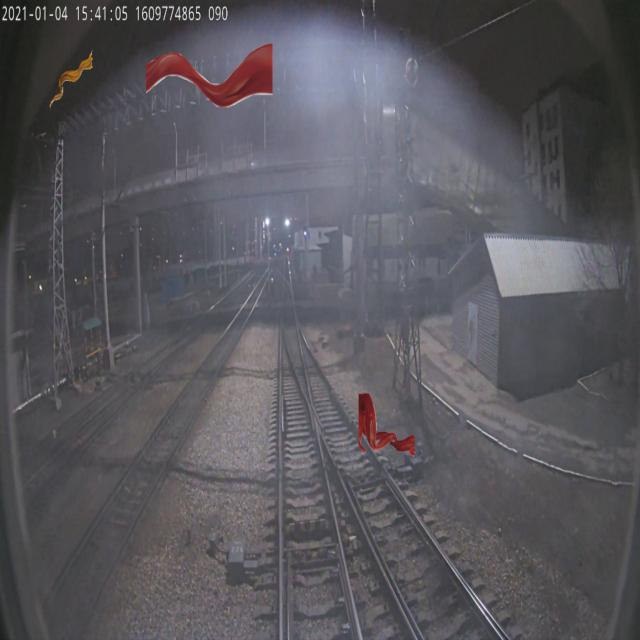floating object: (146, 44, 272, 108), (358, 393, 414, 457), (48, 48, 92, 112)
